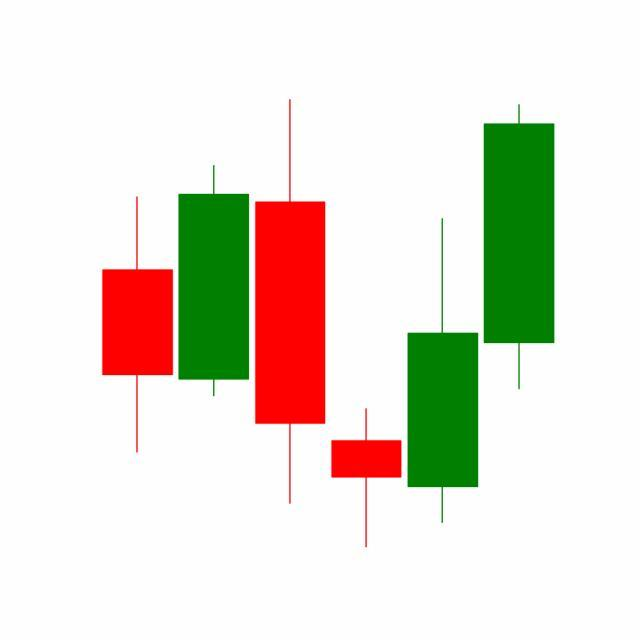Morning Star: (252, 99, 482, 549)
